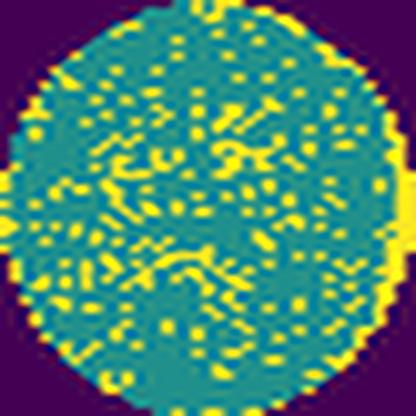Edge-Loc: (327, 107, 415, 375)
